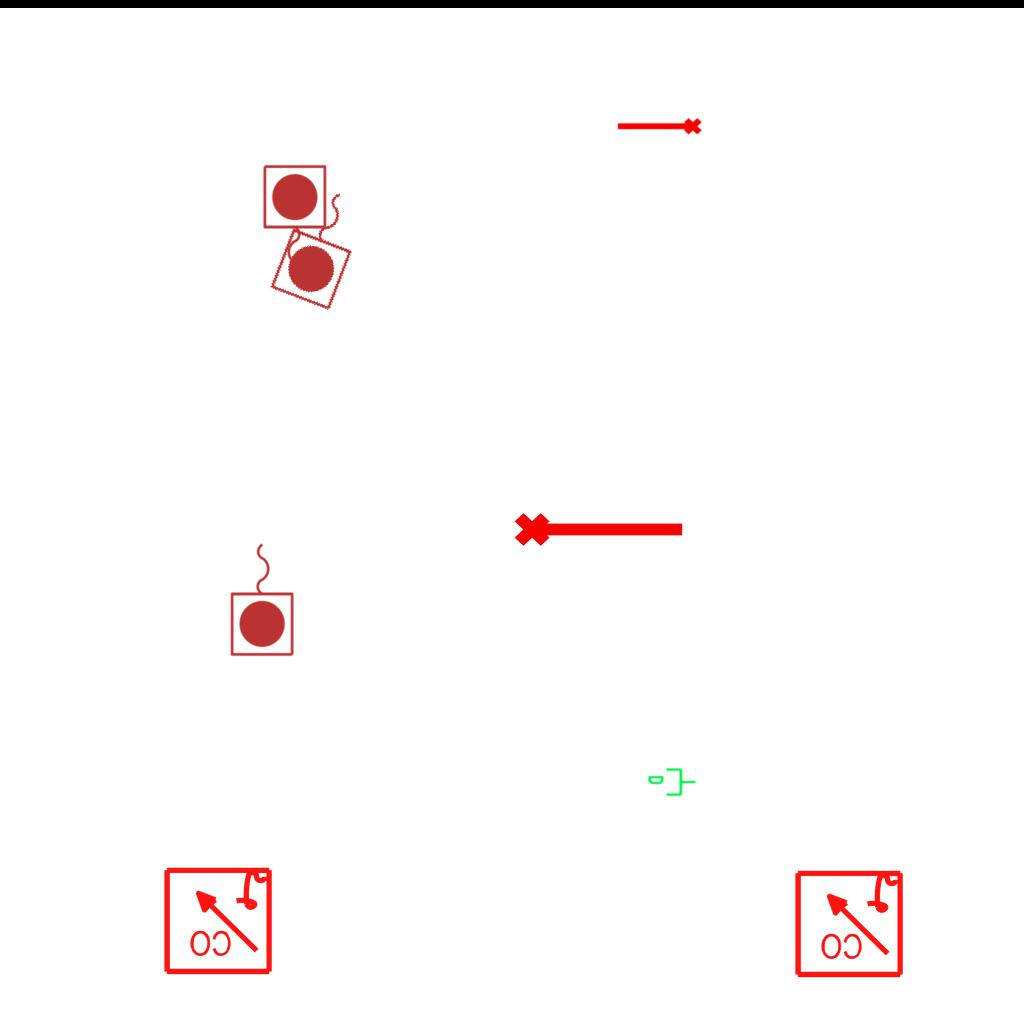ASR_Ansaugoeffnung: (512, 504, 688, 550), (615, 116, 703, 139)
Datenanschluss_einfach: (647, 766, 697, 800)
ROA_Rauchmelder_optisch_mit_Signalgeber_(Sockelsirene): (161, 863, 274, 976), (792, 866, 905, 979)
Zugtaster: (265, 176, 377, 316), (258, 161, 330, 283), (227, 538, 299, 660)
